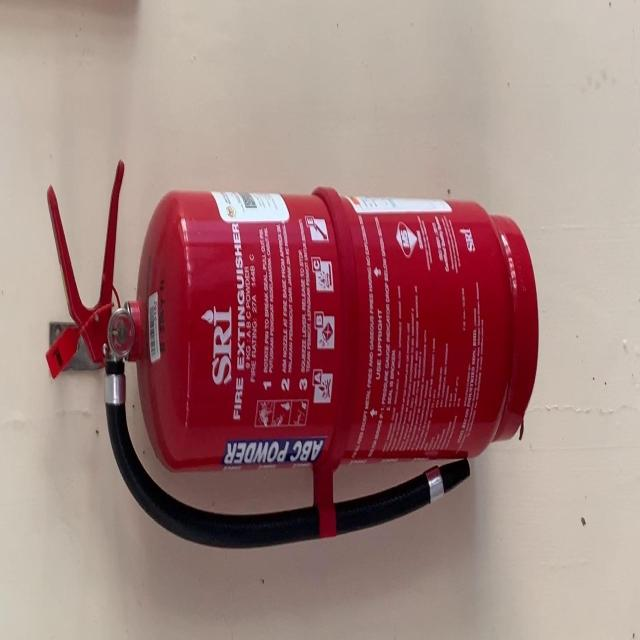fire_extinguisher: (41, 156, 545, 555)
